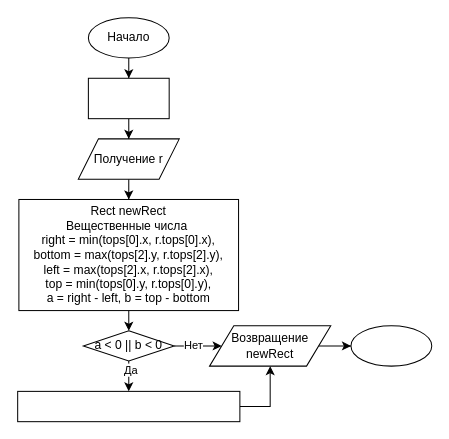
This 449x439 diagram has some shape labels left out. The shapes that lost their labels are listed below. From the top down, each one's centre as x and y in pixels, then its label:
At (128,98): "const Rect& r".
At (391,345): "Конец".
At (128,406): "newRect = Rect(a, b); newRect.move(left + a/2, bottom + b/2);".
